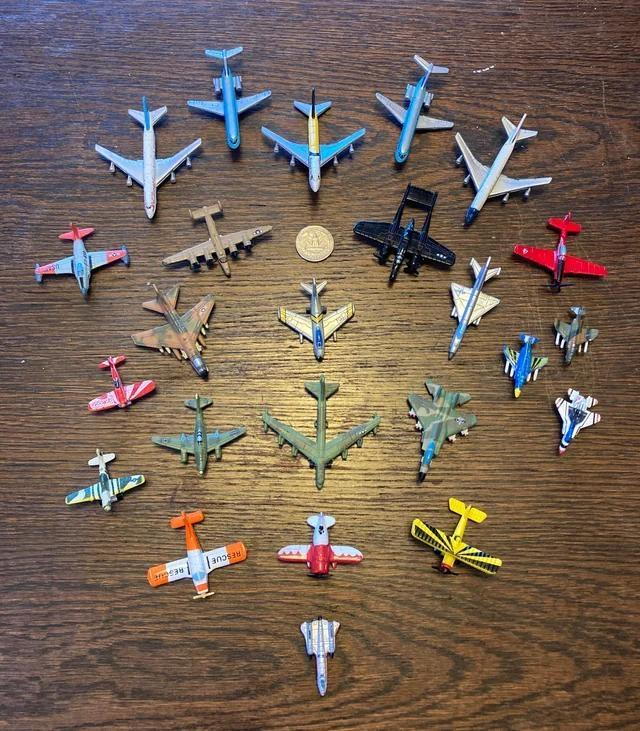Airplane: (263, 375, 379, 489), (95, 97, 200, 219), (261, 87, 364, 192), (456, 115, 551, 224), (353, 184, 454, 281), (148, 511, 246, 597), (188, 47, 270, 149), (376, 55, 453, 163), (163, 202, 271, 276), (132, 282, 215, 377), (152, 396, 245, 474), (514, 214, 606, 290), (411, 498, 501, 574), (408, 381, 476, 480), (36, 224, 129, 295), (278, 278, 354, 360), (278, 512, 363, 575), (448, 257, 500, 358), (67, 449, 144, 510), (85, 356, 158, 412), (300, 618, 339, 695), (555, 389, 600, 454), (504, 334, 547, 398), (553, 307, 597, 364)
